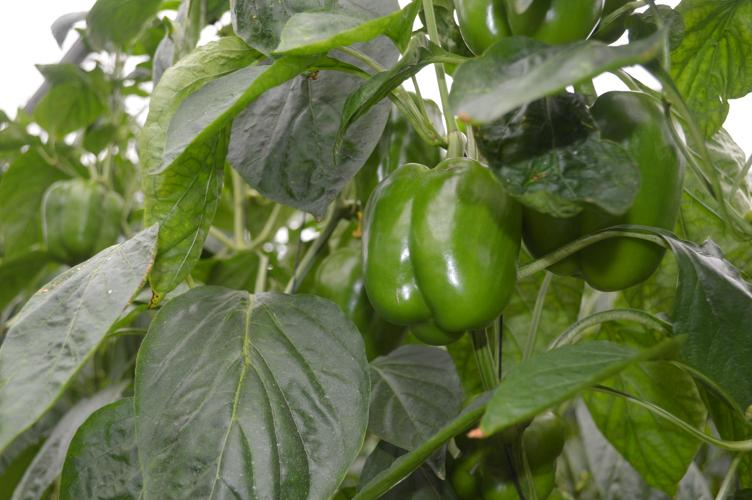BellPepper: (514, 91, 682, 290), (360, 159, 522, 342), (349, 89, 445, 197), (309, 244, 387, 358), (38, 179, 124, 258)
